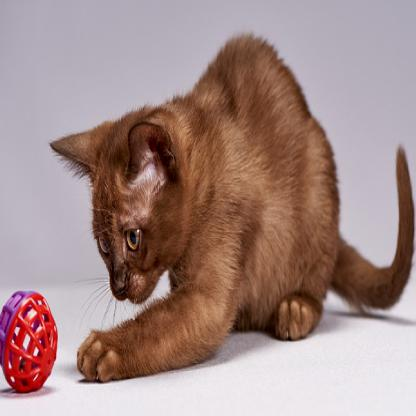cat: (50, 36, 413, 384)
